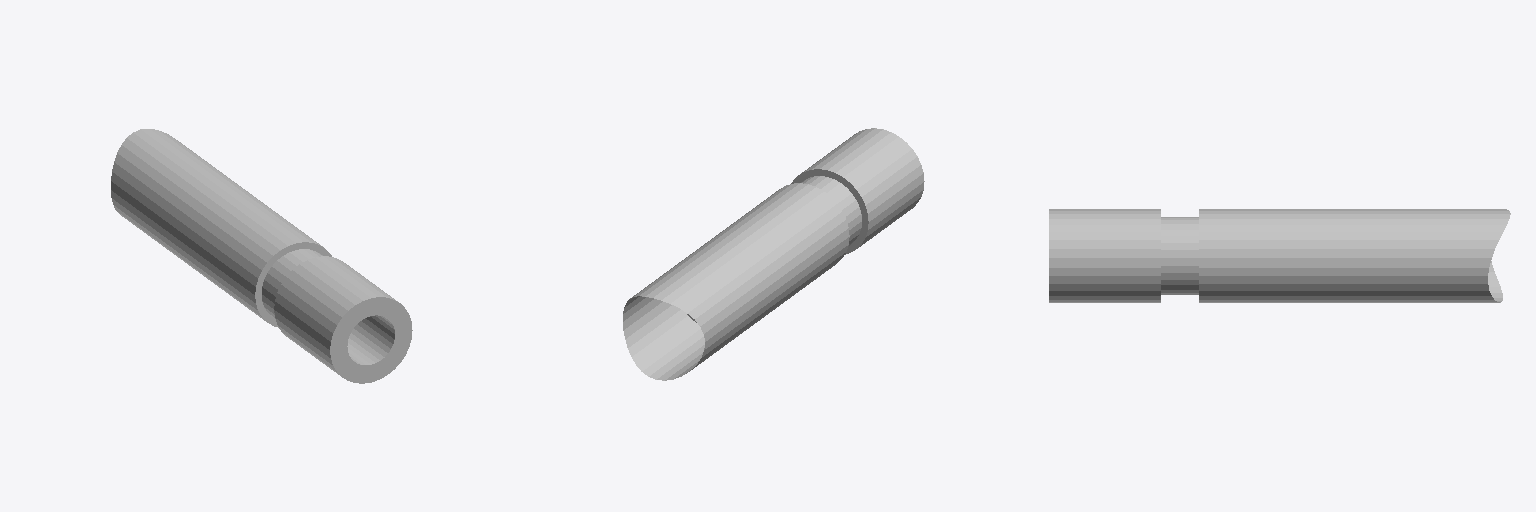
File: YK_Naval_Gun_Barrel.obj
3 views of the same model, side by side, from view 1: azimuth 30°, elevation 25°; view 2: azimuth 150°, elevation 25°; view 3: azimuth 270°, elevation 25° (orthographic).
Visible parts, largest first — view 1: Cube.003_Cube.000; view 2: Cube.003_Cube.000; view 3: Cube.003_Cube.000.
Boxes of the visible parts, box(x1,y1,x2,y2) form: Cube.003_Cube.000: box(111, 129, 412, 383); Cube.003_Cube.000: box(623, 128, 924, 380); Cube.003_Cube.000: box(1049, 209, 1510, 302).
Bounding box in the file's own units: 0.4972 × 0.4861 × 2.41.